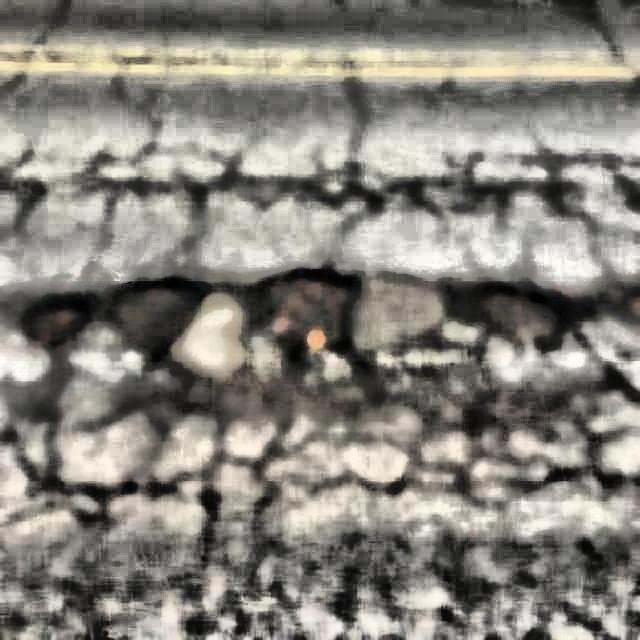buraco: (28, 282, 566, 368)
